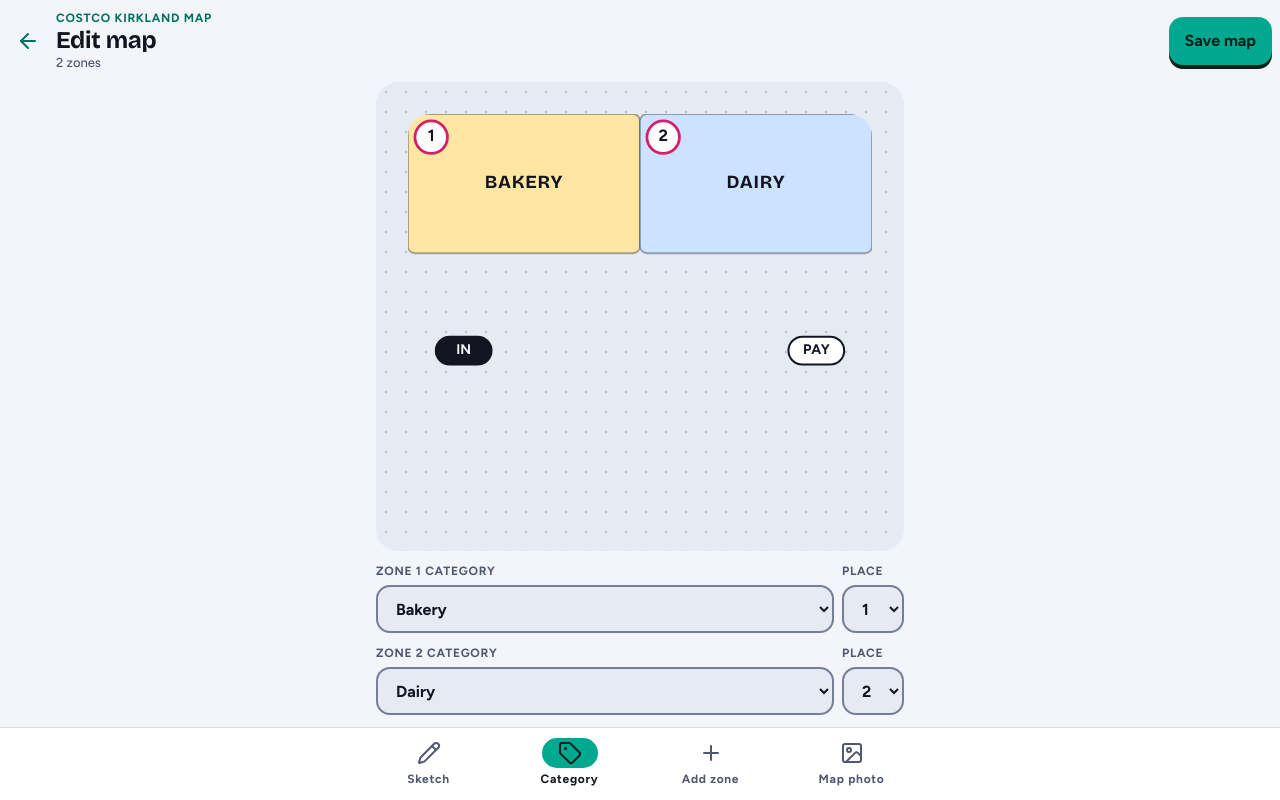
Test: Map editor page › disables Save map while a save is waiting, so it is not sent twice
Expected: the heading "Edit map" is shown, [56,26,156,54]
Click the button "Save map": x=1220, y=41 [1169,17,1272,65]
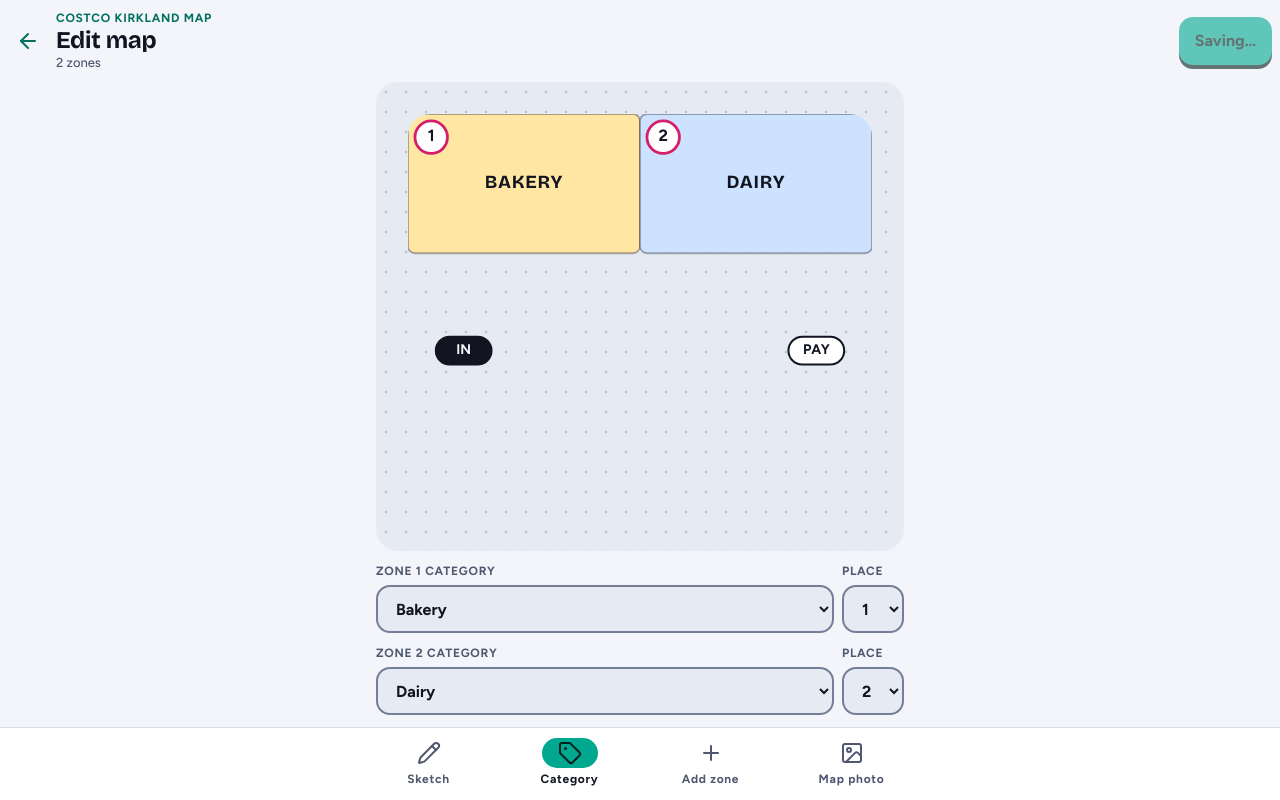
Result: the button "Saving…" is disabled at [1179,17,1272,65]
